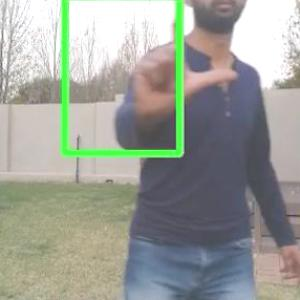land_hand: (124, 0, 240, 121)
